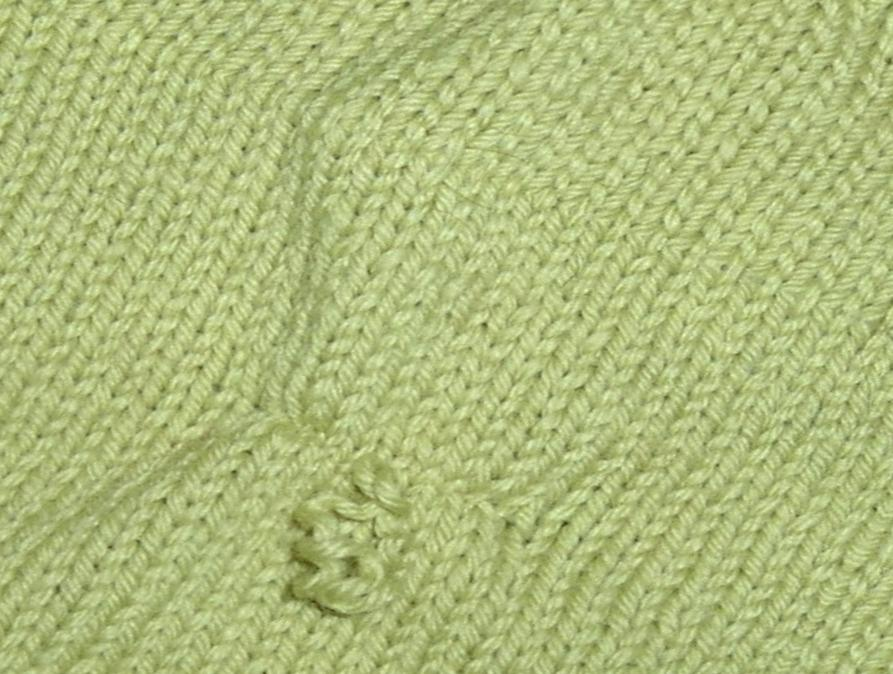knot: (282, 460, 404, 623)
